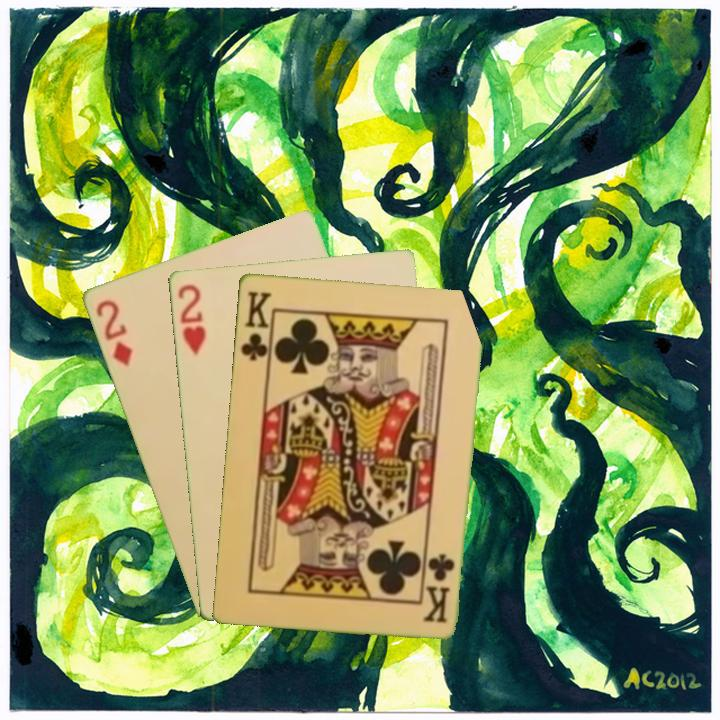2d: (92, 296, 135, 369)
2h: (174, 280, 208, 358)
Kc: (237, 287, 275, 368), (421, 549, 457, 625)
